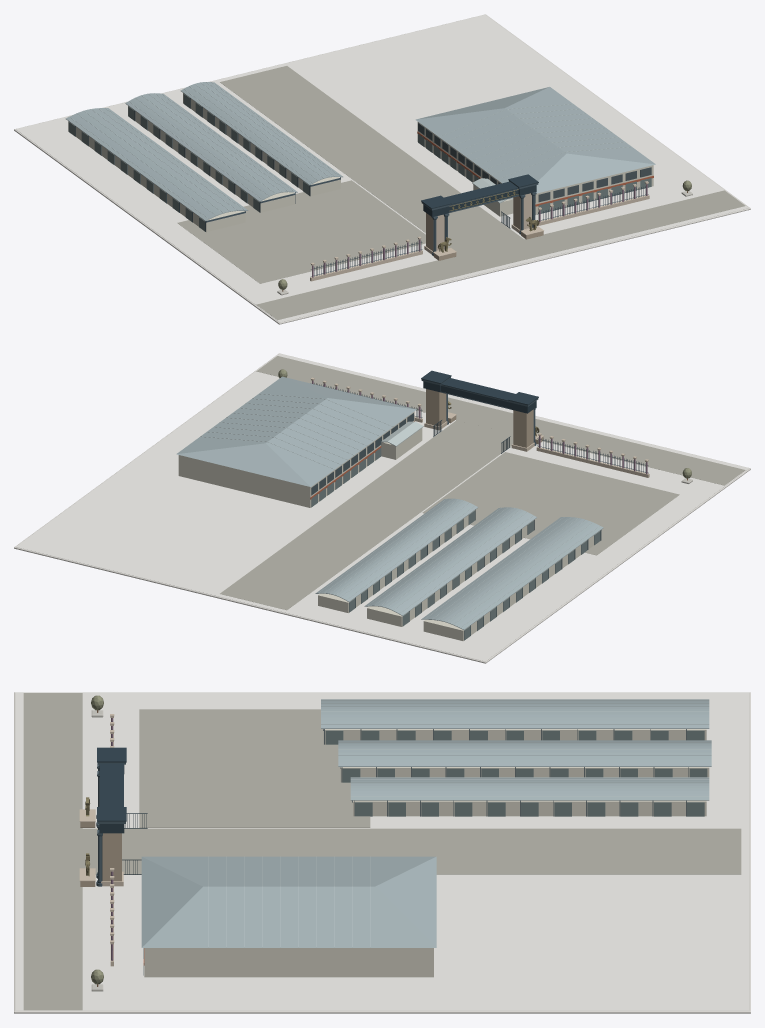
Rendered from auyl-bereke.glb.
3 views of the same model, one above another, from view 1: azimuth 30°, elevation 25°; view 2: azimuth 150°, elevation 25°; view 3: azimuth 270°, elevation 25° (orthographic). The views are drawn at different scales.
Parts seen in each view (by area): view 1: auyl-bereke_chalk, auyl-bereke_auyl_road, auyl-bereke_auyl_roof, auyl-bereke_auyl_wall, auyl-bereke_auyl_stall, auyl-bereke_auyl_gate, auyl-bereke_auyl_roof_light, auyl-bereke_stone, auyl-bereke_auyl_pier_light, auyl-bereke_auyl_window, auyl-bereke_auyl_gate_edge, auyl-bereke_auyl_pier (+1 smaller); view 2: auyl-bereke_chalk, auyl-bereke_auyl_road, auyl-bereke_auyl_roof, auyl-bereke_auyl_wall, auyl-bereke_auyl_roof_light, auyl-bereke_auyl_gate, auyl-bereke_auyl_stall, auyl-bereke_stone, auyl-bereke_auyl_pier, auyl-bereke_auyl_pier_light, auyl-bereke_auyl_window; view 3: auyl-bereke_chalk, auyl-bereke_auyl_road, auyl-bereke_auyl_roof, auyl-bereke_auyl_wall, auyl-bereke_auyl_stall, auyl-bereke_auyl_roof_light, auyl-bereke_stone, auyl-bereke_auyl_gate, auyl-bereke_auyl_pier, auyl-bereke_auyl_pier_light, auyl-bereke_auyl_gate_edge.
Part boxes in pixels (box(x1,y1,x2,y2)): auyl-bereke_chalk: box(16, 15, 748, 322); auyl-bereke_auyl_road: box(177, 66, 745, 320); auyl-bereke_auyl_roof: box(65, 82, 655, 221); auyl-bereke_auyl_wall: box(68, 93, 653, 231); auyl-bereke_auyl_stall: box(68, 94, 651, 231); auyl-bereke_auyl_gate: box(75, 98, 648, 276); auyl-bereke_auyl_roof_light: box(70, 82, 630, 218); auyl-bereke_stone: box(14, 14, 750, 324); auyl-bereke_auyl_pier_light: box(310, 181, 649, 281); auyl-bereke_auyl_window: box(418, 123, 651, 202); auyl-bereke_auyl_gate_edge: box(206, 178, 538, 255); auyl-bereke_auyl_pier: box(426, 196, 543, 260); auyl-bereke_chalk: box(16, 354, 748, 661); auyl-bereke_auyl_road: box(220, 356, 745, 610); auyl-bereke_auyl_roof: box(176, 376, 603, 629); auyl-bereke_auyl_wall: box(178, 411, 600, 640); auyl-bereke_auyl_roof_light: box(200, 394, 599, 627); auyl-bereke_auyl_gate: box(313, 370, 648, 635); auyl-bereke_auyl_stall: box(311, 448, 600, 640); auyl-bereke_stone: box(14, 353, 750, 663); auyl-bereke_auyl_pier: box(426, 389, 543, 447); auyl-bereke_auyl_pier_light: box(311, 377, 649, 477); auyl-bereke_auyl_window: box(311, 413, 413, 495); auyl-bereke_chalk: box(16, 692, 748, 1010); auyl-bereke_auyl_road: box(23, 693, 741, 1010); auyl-bereke_auyl_roof: box(141, 699, 711, 947); auyl-bereke_auyl_wall: box(144, 729, 709, 977); auyl-bereke_auyl_stall: box(143, 730, 707, 975); auyl-bereke_auyl_roof_light: box(208, 700, 711, 947); auyl-bereke_stone: box(14, 692, 750, 1013); auyl-bereke_auyl_gate: box(97, 721, 688, 959); auyl-bereke_auyl_pier: box(80, 822, 121, 886); auyl-bereke_auyl_pier_light: box(79, 714, 123, 966); auyl-bereke_auyl_gate_edge: box(96, 729, 352, 886).
Size of the model in its own units: 154 by 15.67 by 150.
